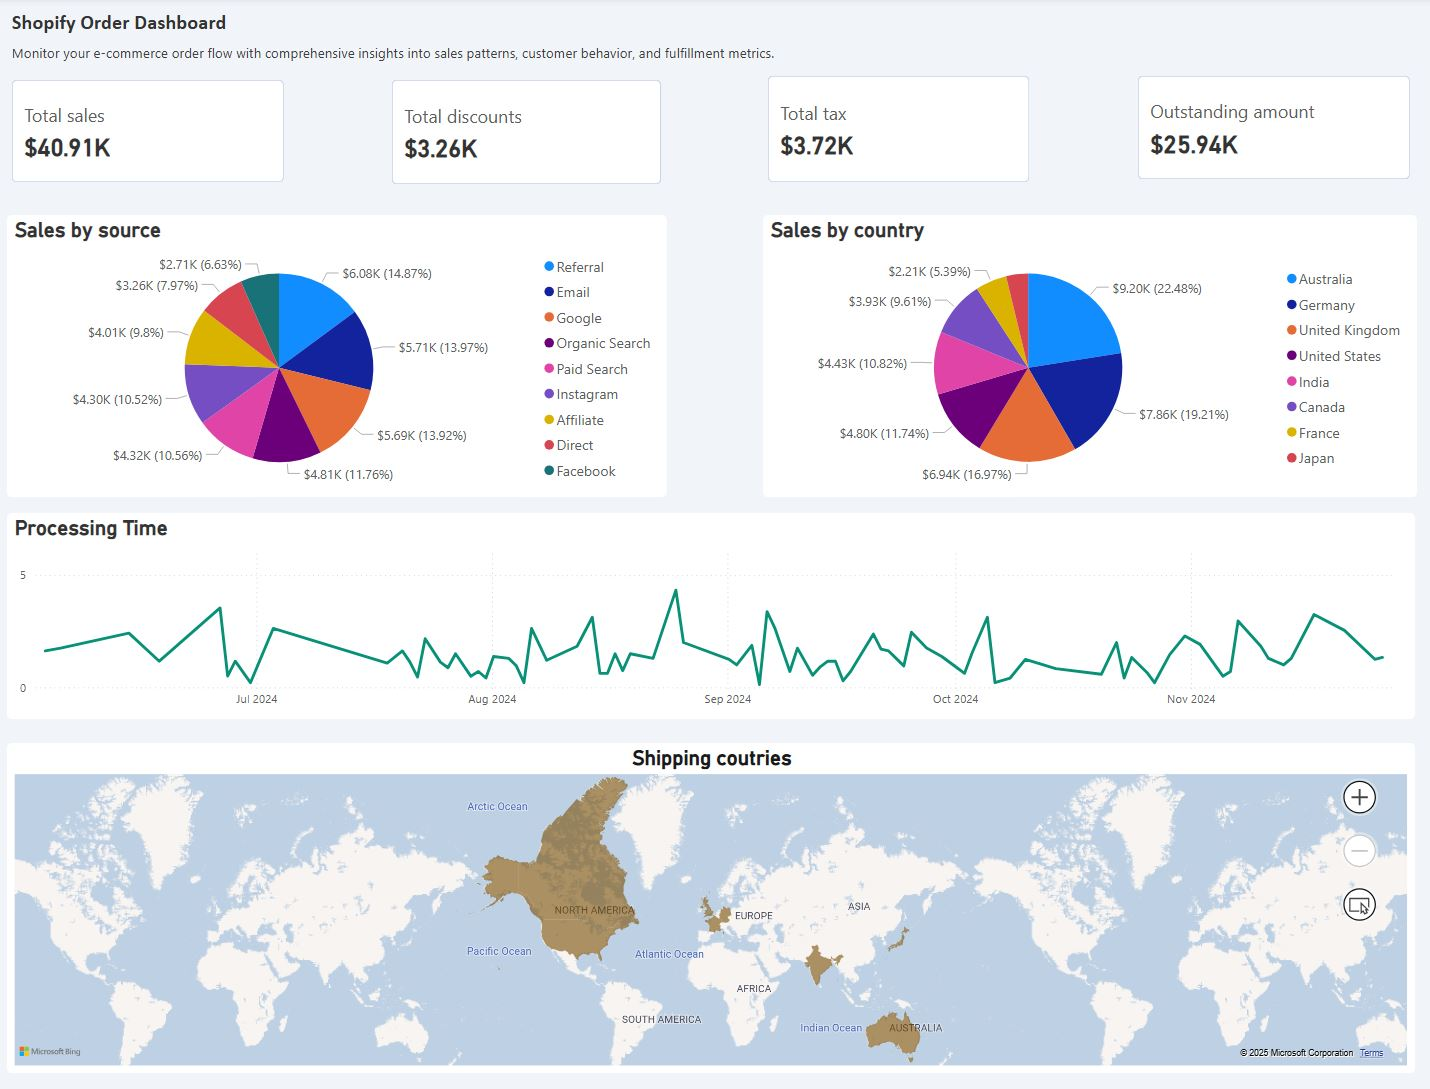

What the dashboard file says about the page in this screenshot:
{"tool":"powerbi","page":{"name":"Overview_2","canvas":[1500,1150],"ordinal":1},"visuals":[{"type":"textbox","box":[11.6,10.2,281.7,39.2],"z":0},{"type":"cardVisual","fields":{"Data":["Key Measures.Total Sales"]},"box":[12.7,83.5,294,118],"z":500},{"type":"cardVisual","fields":{"Data":["Key Measures.Total Tax"]},"box":[802.5,79.7,283.1,122],"z":750},{"type":"cardVisual","fields":{"Data":["Key Measures.Total Discoutns"]},"box":[408.7,82.6,291.8,119.1],"z":875},{"type":"cardVisual","fields":{"Data":["Key Measures.Outstanding Amount"]},"box":[1187.6,79.3,294.3,119],"z":937},{"type":"textbox","box":[12.3,46.2,844.1,44.7],"z":1000},{"type":"pieChart","title":"Sales by source","fields":{"Y":["Key Measures.Total sales"],"Category":["orders.sales_channel"]},"box":[12.5,229.6,688.7,294.3],"z":6000},{"type":"pieChart","title":"Sales by country","fields":{"Y":["Key Measures.Total sales"],"Category":["orders.country"]},"box":[801.5,229.6,682.5,294.3],"z":7000},{"type":"lineChart","title":"Processing Time","fields":{"Y":["Sum(orders.Processing Time (Days))"],"Category":["orders.created_at"]},"box":[12.5,540.6,1469.3,215],"z":8000},{"type":"filledMap","title":"Shipping coutries","fields":{"Category":["orders.country"]},"box":[12.5,780.6,1469.3,344.4],"z":8001}]}

Visuals, with their boxes in screenshot pixels (x1, y1, x2, y2), scaled from the page's 1500x1150 canvas onto the 1430x1089 screenshot:
textbox: (11,10,280,47)
cardVisual - Key Measures.Total Sales: (12,79,292,191)
cardVisual - Key Measures.Total Tax: (765,75,1035,191)
cardVisual - Key Measures.Total Discoutns: (390,78,668,191)
cardVisual - Key Measures.Outstanding Amount: (1132,75,1413,188)
textbox: (12,44,816,86)
"Sales by source" pieChart: (12,217,668,496)
"Sales by country" pieChart: (764,217,1415,496)
"Processing Time" lineChart: (12,512,1413,716)
"Shipping coutries" filledMap: (12,739,1413,1065)
